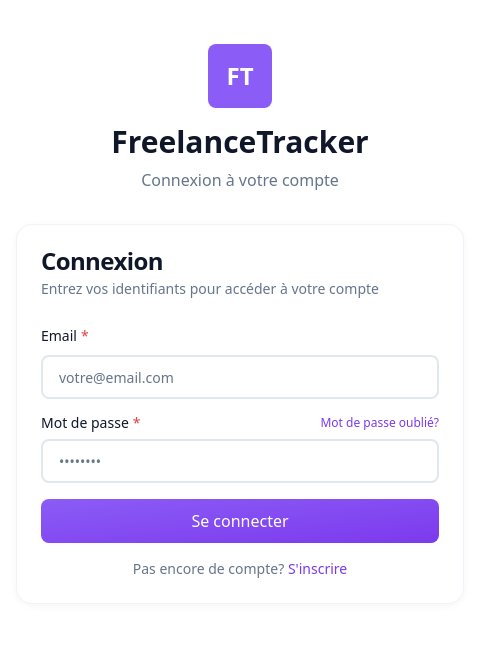
Test: Login page › shows validation errors when submitting empty form
This screenshot has width=481, height=649.
What coordinates should you click on to do the following:
click the button "Se connecter"
I would click on:
 (240, 521)
Its box is top-left (41, 499), bottom-right (439, 543).
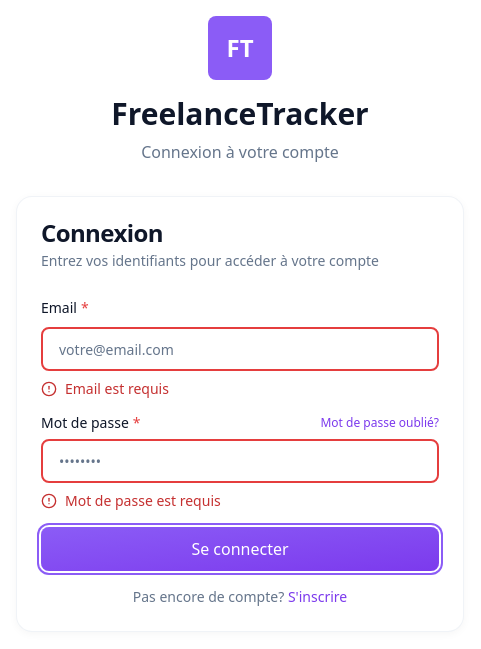
Check: the text "Email est requis" is shown, box top-left (41, 379), bottom-right (169, 398)
Check: the text "Mot de passe est requis" is shown, box top-left (41, 491), bottom-right (221, 510)
